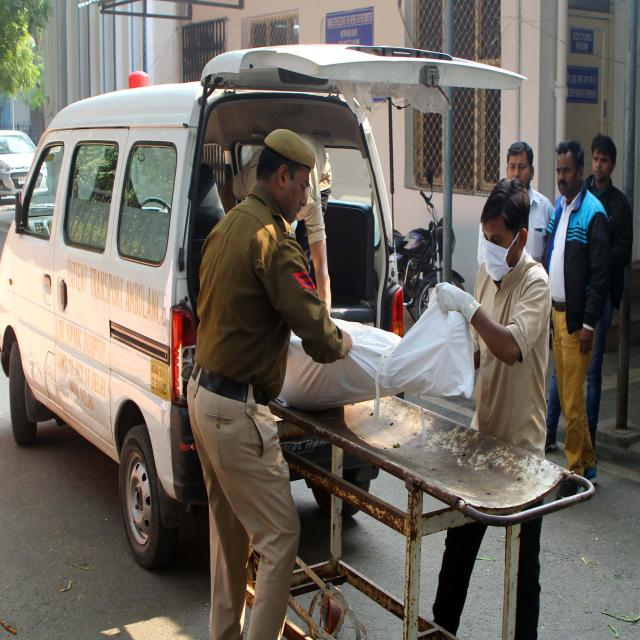car: (0, 130, 36, 199)
emergency: (0, 44, 520, 567)
motorcycle: (394, 192, 442, 320)
